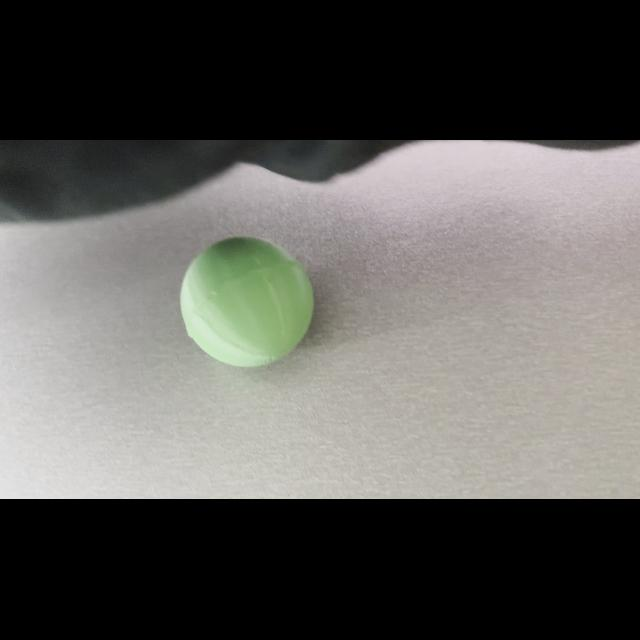objects: (172, 230, 320, 374)
